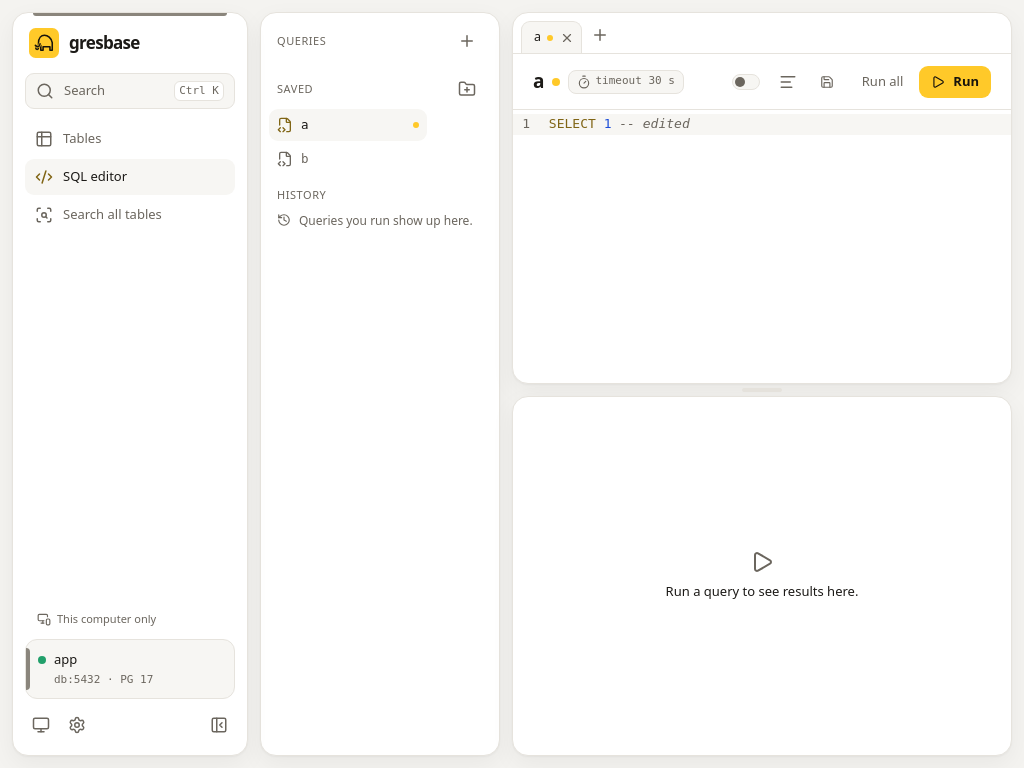
Test: saved queries › opens another saved query in its own tab, keeping unsaved changes
Click the link "b": click(293, 159) [277,151,308,167]
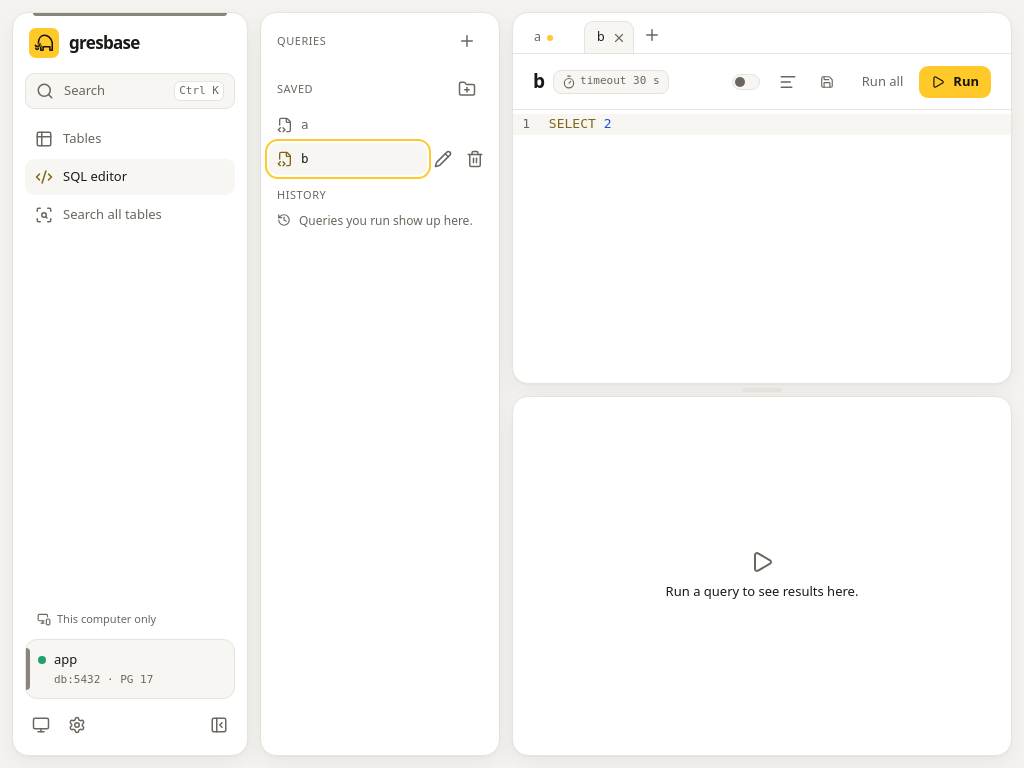
expect the text box labelled "SELECT 2" is shown: met, box [543,114,1011,135]
expect the list items read "a", "b", in this order: met
Click the button "a": click(538, 38) [522,22,553,53]
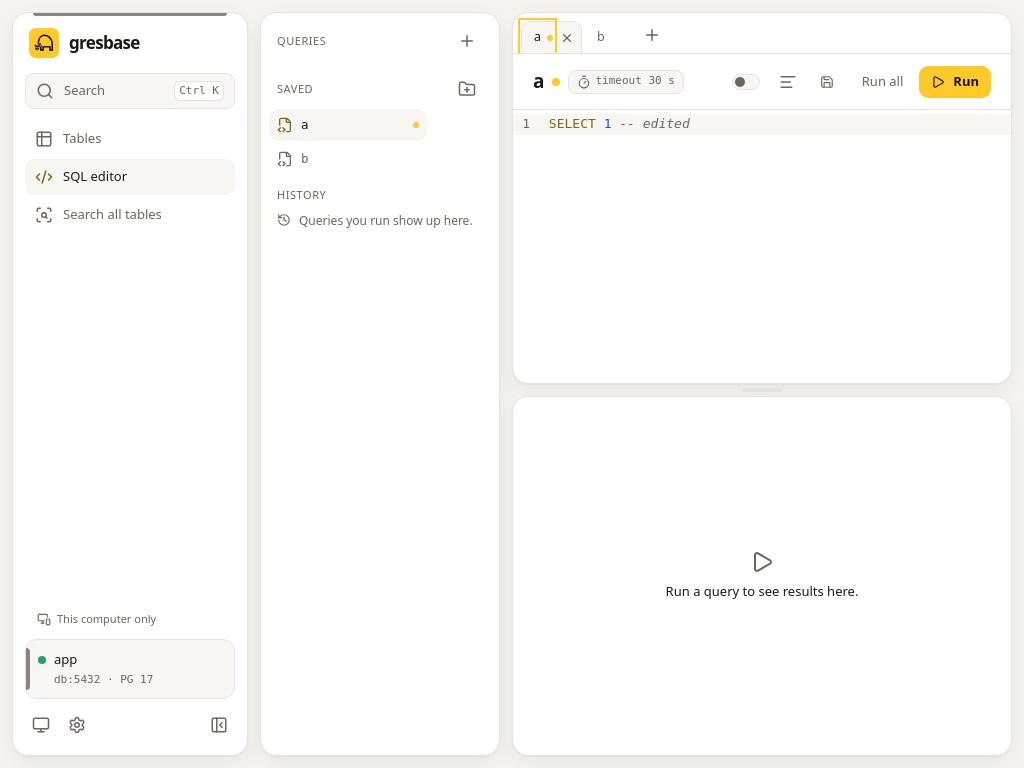
expect the text box labelled "SELECT 1 -- edited" is shown: met, box [543,114,1011,135]
